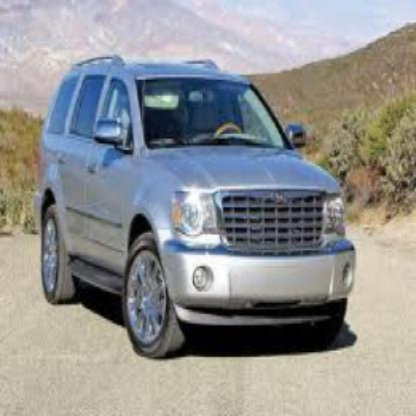Vehicle: (36, 57, 359, 364)
